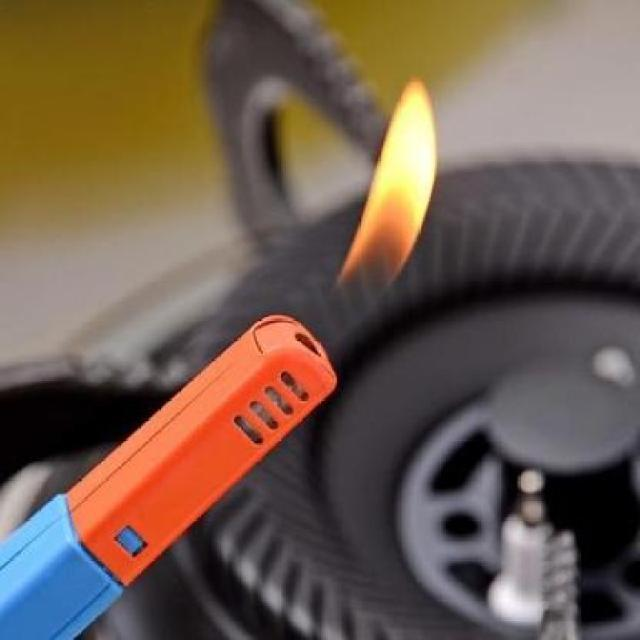Fire: (333, 84, 441, 358)
